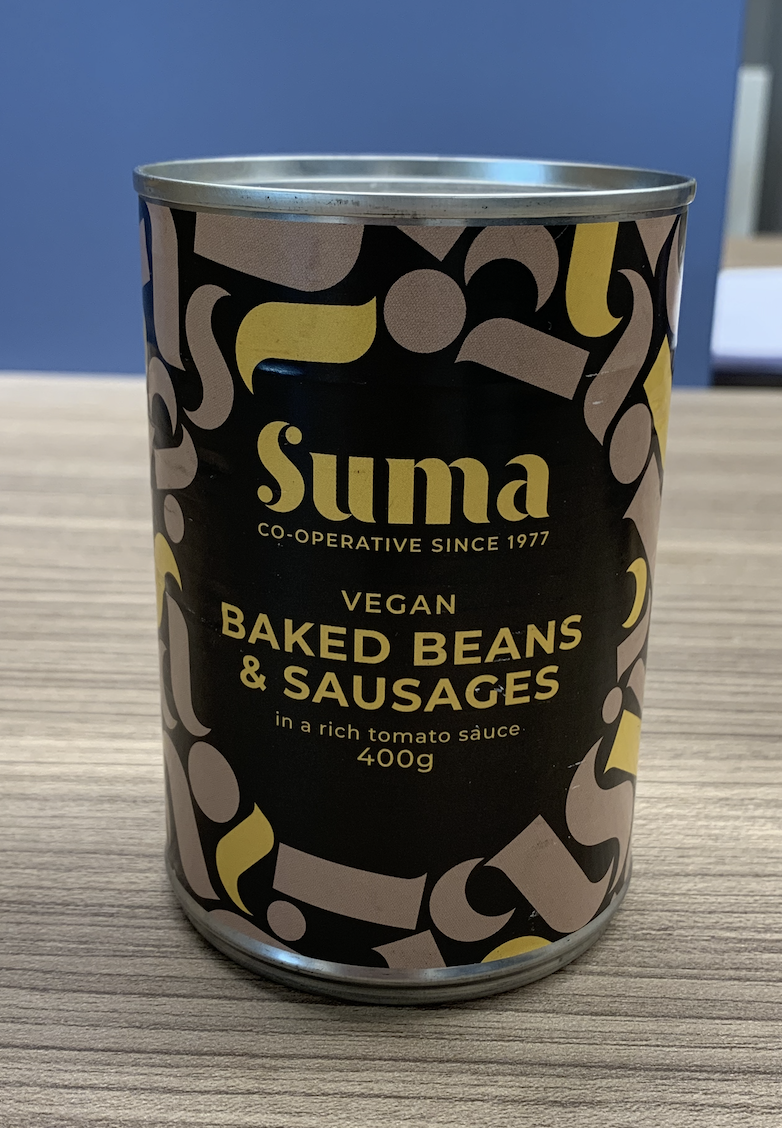Baked beans_450g: (171, 222, 623, 916)
